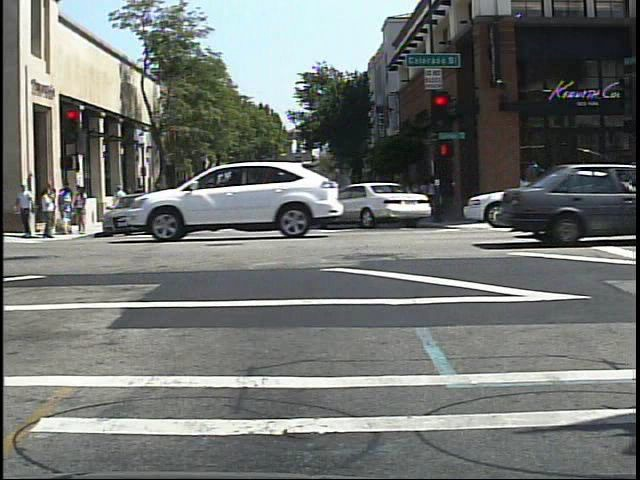person: (111, 180, 130, 225)
